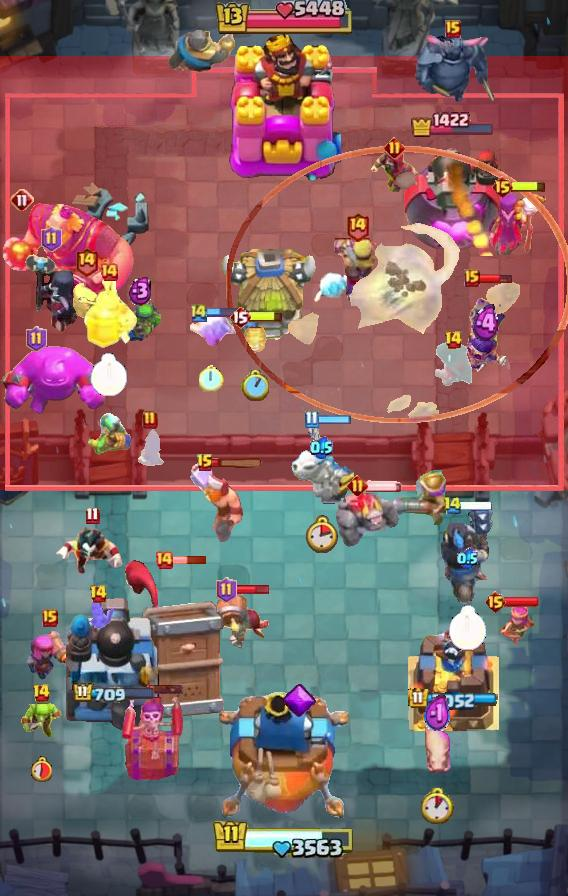archer: (490, 604, 536, 650)
bandit: (431, 341, 475, 389)
bar: (212, 458, 264, 469), (248, 310, 284, 323), (477, 272, 513, 285), (511, 180, 547, 193), (365, 480, 403, 492), (147, 683, 184, 695), (504, 596, 540, 608), (207, 306, 243, 318), (235, 584, 270, 595), (317, 414, 352, 425), (172, 555, 207, 565), (460, 501, 493, 511)
bar-level: (74, 246, 99, 277), (345, 211, 370, 242), (10, 188, 34, 212), (484, 590, 507, 614), (491, 175, 514, 199), (216, 577, 237, 603), (26, 326, 47, 352), (41, 226, 62, 252), (229, 305, 251, 329), (347, 475, 368, 496), (384, 137, 405, 158), (189, 302, 209, 323), (154, 550, 174, 570), (99, 262, 119, 282), (32, 683, 51, 703), (89, 584, 108, 604), (444, 330, 463, 350), (443, 496, 462, 515), (196, 453, 214, 473), (142, 410, 158, 430), (42, 609, 58, 627), (464, 269, 480, 287), (445, 20, 461, 38), (85, 506, 100, 525), (304, 410, 319, 429)
barbarian-evolution: (332, 238, 382, 304)
bat: (133, 429, 167, 471), (80, 594, 116, 628)
bomber-evolution: (462, 281, 510, 377)
cannoneer-tower: (66, 595, 162, 731), (403, 138, 504, 256)
clock: (448, 605, 487, 651), (90, 353, 128, 397), (305, 515, 338, 553), (421, 787, 454, 824), (241, 370, 269, 401), (199, 364, 224, 392), (30, 756, 52, 782)
electro-wizard: (55, 521, 129, 579)
elixir: (472, 304, 501, 343), (424, 694, 451, 735), (128, 275, 153, 306), (310, 436, 333, 459), (457, 548, 478, 569)
evolution-symbol: (281, 683, 316, 719)
firecracker: (25, 627, 75, 681)
goblin: (20, 701, 62, 741)
golemite: (335, 487, 403, 547)
heal-spirit: (69, 279, 103, 323)
hog: (421, 723, 453, 775)
ice-spirit: (310, 267, 352, 305)
ice-spirit-evolution: (186, 310, 236, 348)
king-tower: (219, 692, 349, 826), (227, 29, 341, 181)
king-tower-bar: (212, 819, 356, 861), (213, 0, 355, 38)
knight: (167, 20, 239, 75)
lava-pup: (241, 322, 269, 354)
lumberjack: (190, 459, 246, 545)
musketeer: (392, 468, 450, 528)
night-witch: (23, 252, 79, 334)
queen-tower: (407, 627, 499, 731)
royal-recruit: (78, 275, 140, 351)
spear-goblin: (85, 412, 135, 456), (119, 303, 161, 343)
tower-bar: (410, 111, 496, 138), (408, 687, 498, 710), (72, 682, 156, 705)
wall-breaker: (215, 591, 271, 651)
witch: (483, 189, 547, 255)
wizard: (368, 146, 420, 196)
